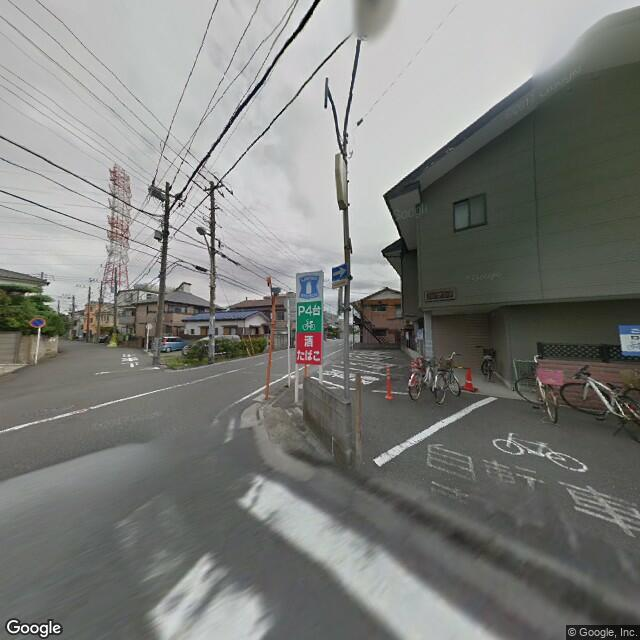lawson: (293, 265, 323, 302)
